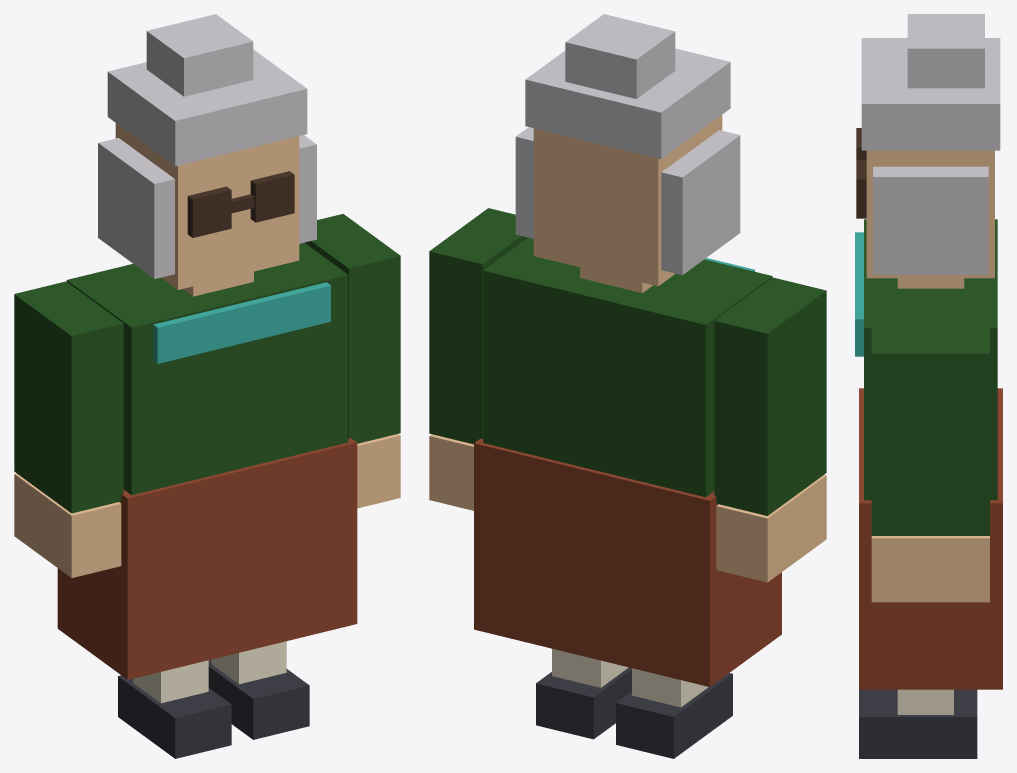
The model's file is people__granny.glb.
3 renders of one model, left to right at view 1: azimuth 30°, elevation 25°; view 2: azimuth 150°, elevation 25°; view 3: azimuth 270°, elevation 25°, orthographic. The views are drawn at different scales.
Size of the model in its own units: 1.52 by 2.98 by 0.575.
